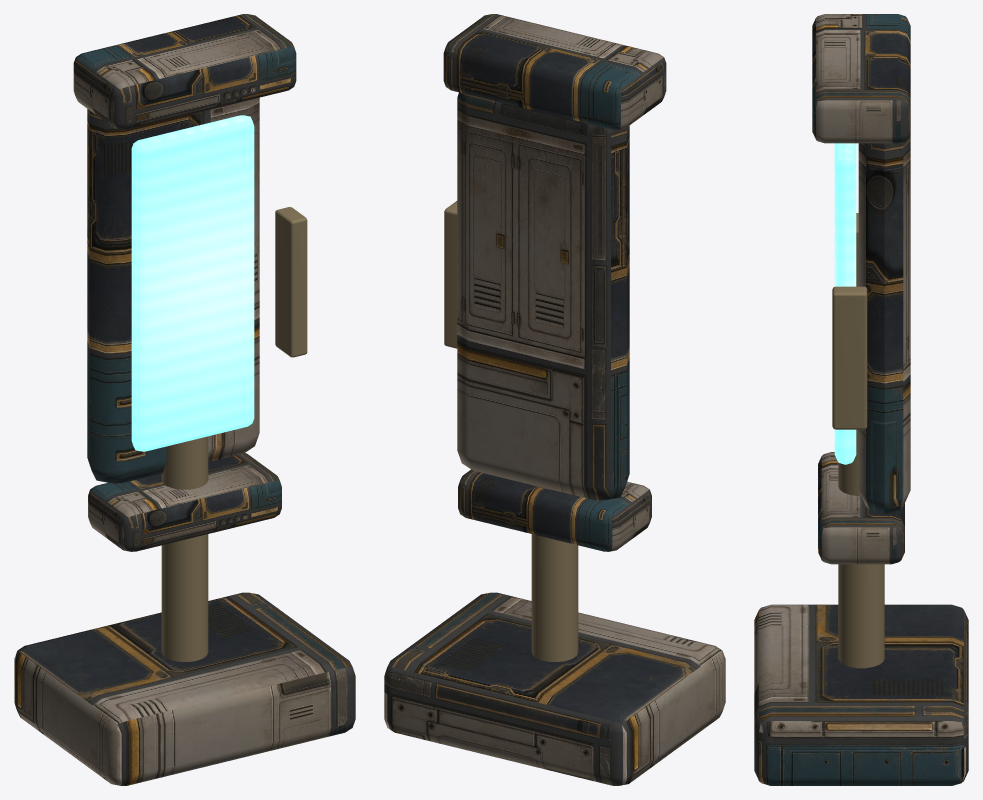
Rendered from hp_light_residential_lamp_blue.glb.
3 renders of one model, left to right at view 1: azimuth 30°, elevation 25°; view 2: azimuth 150°, elevation 25°; view 3: azimuth 270°, elevation 25°, orthographic.
Parts seen in each view (by area): view 1: weighted_floor_base, front_glowing_lens, lamp_back_housing, top_cap_dark, bottom_cap_dark, vertical_service_spine, small_side_handle; view 2: lamp_back_housing, weighted_floor_base, top_cap_dark, bottom_cap_dark, vertical_service_spine, small_side_handle; view 3: weighted_floor_base, lamp_back_housing, top_cap_dark, bottom_cap_dark, vertical_service_spine, small_side_handle, front_glowing_lens.
Boxes of the visible parts, bbox=[...] form: weighted_floor_base: bbox=[14, 592, 355, 785]; front_glowing_lens: bbox=[131, 115, 254, 451]; lamp_back_housing: bbox=[87, 97, 259, 483]; top_cap_dark: bbox=[73, 14, 296, 129]; bottom_cap_dark: bbox=[88, 453, 281, 551]; vertical_service_spine: bbox=[161, 436, 208, 661]; small_side_handle: bbox=[275, 207, 307, 357]; lamp_back_housing: bbox=[457, 92, 629, 500]; weighted_floor_base: bbox=[384, 592, 725, 785]; top_cap_dark: bbox=[443, 14, 666, 129]; bottom_cap_dark: bbox=[458, 469, 651, 551]; vertical_service_spine: bbox=[531, 486, 578, 661]; small_side_handle: bbox=[444, 201, 457, 348]; weighted_floor_base: bbox=[754, 604, 968, 785]; lamp_back_housing: bbox=[858, 132, 910, 513]; top_cap_dark: bbox=[812, 14, 910, 143]; bottom_cap_dark: bbox=[818, 452, 904, 564]; vertical_service_spine: bbox=[838, 213, 884, 668]; small_side_handle: bbox=[832, 286, 867, 429]; front_glowing_lens: bbox=[834, 143, 856, 464].
Bounding box in the file's own units: 0.5609 × 1.47 × 0.4225.
Materials: 4 (3 with a texture image).
